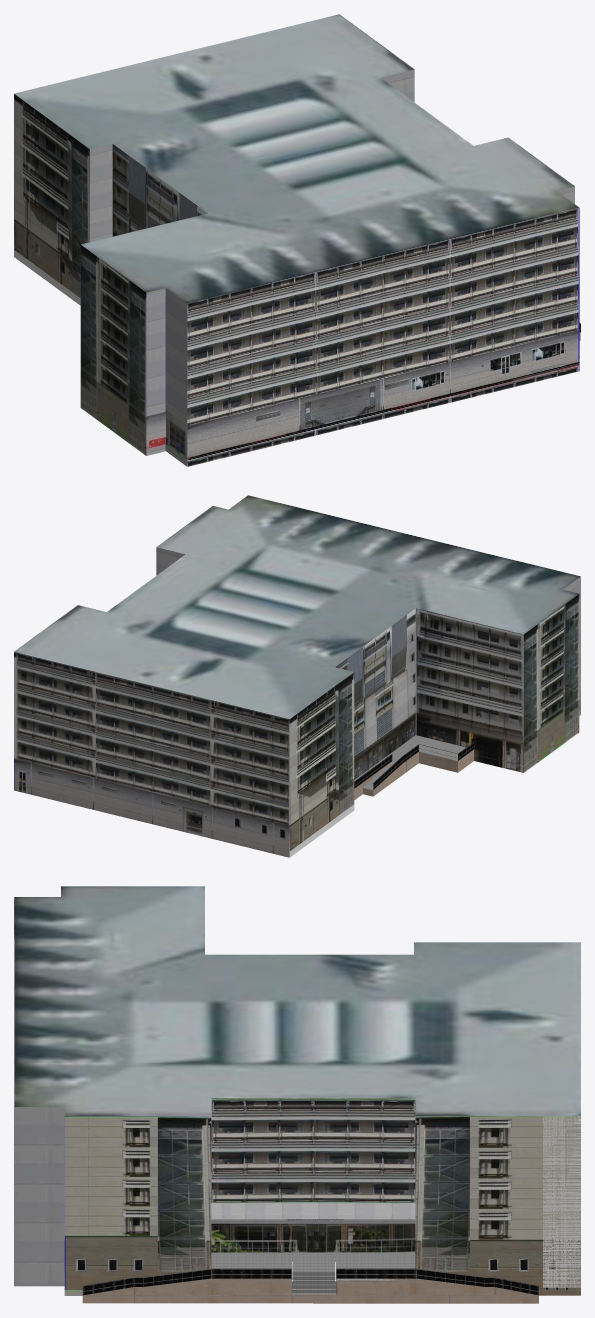
The model's file is Molecular ChemistryGEV1.fbx.
The picture shows the model from 3 angles, top to bottom: view 1: azimuth 30°, elevation 25°; view 2: azimuth 150°, elevation 25°; view 3: azimuth 270°, elevation 25°; orthographic projection. The views are drawn at different scales.
Visible parts, largest first — view 1: Group2, Group3; view 2: Group2, Group3, Group1; view 3: Group2, Group3, Group5, Group4.
Boxes of the visible parts, x1,y1,x2,y2 form: Group2: (14, 14, 579, 459); Group3: (14, 250, 580, 466); Group2: (14, 495, 580, 851); Group3: (14, 709, 580, 857); Group1: (354, 742, 473, 789); Group2: (14, 886, 580, 1287); Group3: (14, 1252, 580, 1303); Group5: (82, 1268, 291, 1295); Group4: (336, 1268, 538, 1295).
Size of what is drawn, in the model's own units: 2937 by 1033 by 2958.
